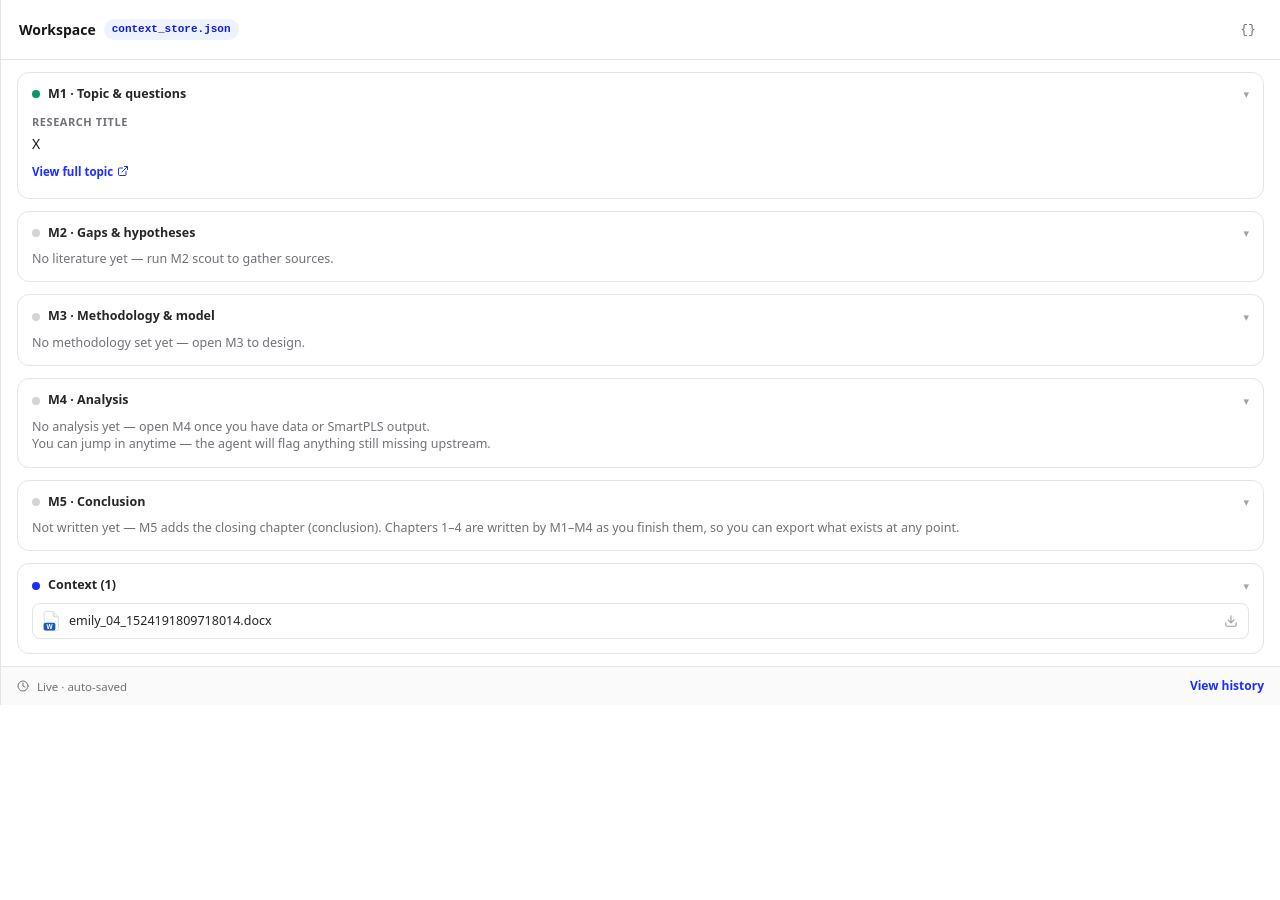
Scenario: Context file rows › clicking the row previews the file instead of downloading it
Click the button "W emily_04_1524191809718014.docx" at (170, 620), box [33, 604, 1214, 638]
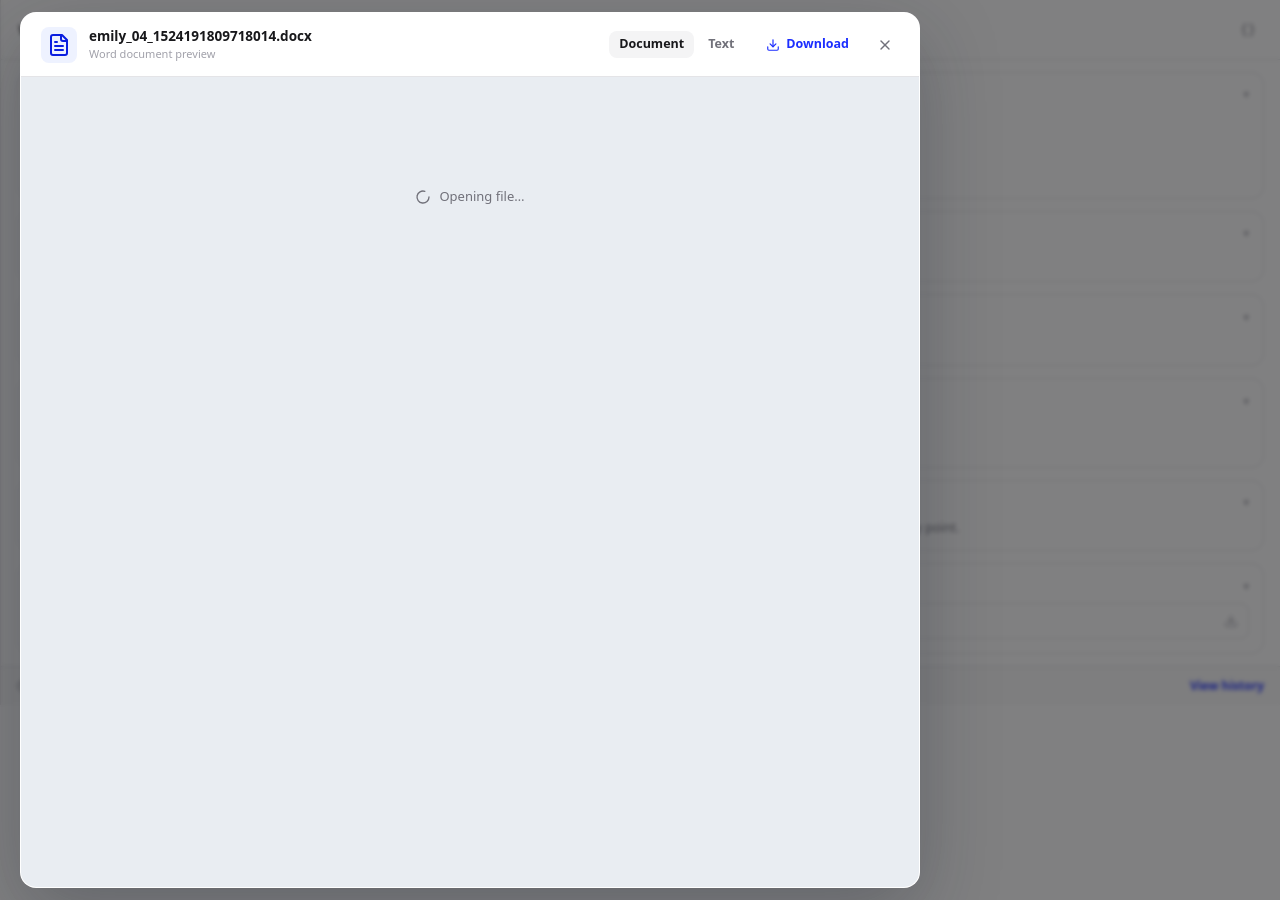
Check: the dialog "emily_04_1524191809718014.docx" is shown
